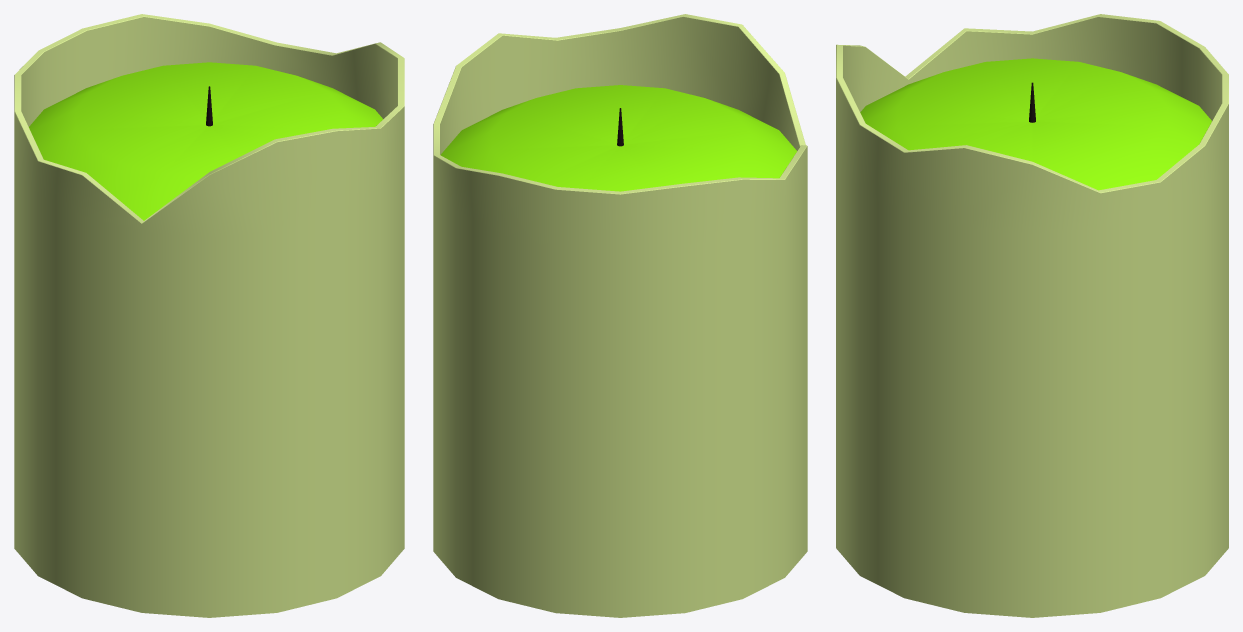
The model's file is swieczka02.FBX.
3 views of the same model, side by side, from view 1: azimuth 30°, elevation 25°; view 2: azimuth 150°, elevation 25°; view 3: azimuth 270°, elevation 25° (orthographic). The views are drawn at different scales.
Visible parts, largest first — view 1: Cylinder001; view 2: Cylinder001; view 3: Cylinder001.
Part boxes in pixels (x1,y1,x2,y2): Cylinder001: (14,14,404,617); Cylinder001: (433,14,807,617); Cylinder001: (836,14,1228,617).
Size of the model in its own units: 10 by 13.12 by 9.85.
